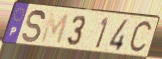1: (94, 17, 110, 50)
3: (65, 15, 88, 47)
4: (107, 19, 132, 53)
C: (127, 19, 154, 56)
M: (39, 11, 71, 46)
S: (21, 9, 46, 45)
